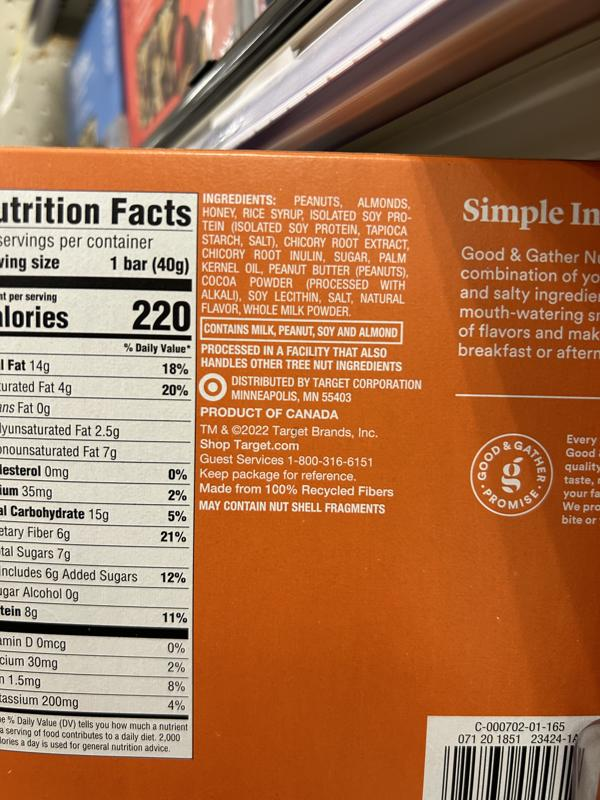ingredients: (198, 192, 413, 319)
